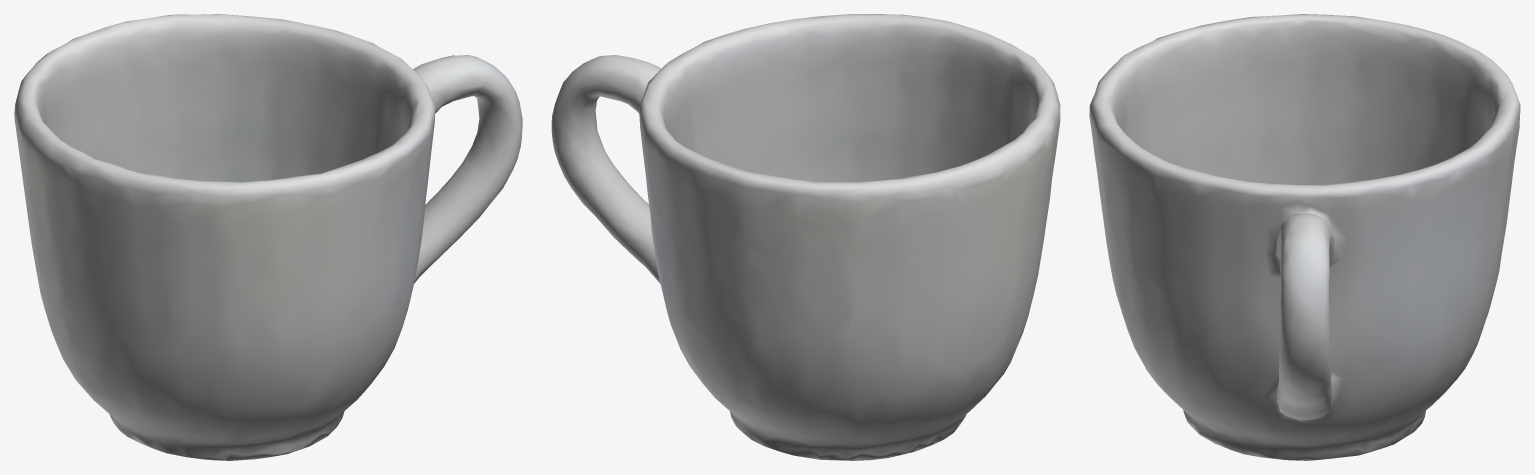
Rendered from teakitchen_TeaCup.glb.
3 views of the same model, side by side, from view 1: azimuth 30°, elevation 25°; view 2: azimuth 150°, elevation 25°; view 3: azimuth 270°, elevation 25° (orthographic).
Visible parts, largest first — view 1: world; view 2: world; view 3: world.
Boxes of the visible parts, box(x1,y1,x2,y2) form: world: box(14, 14, 522, 460); world: box(551, 14, 1060, 460); world: box(1089, 14, 1520, 460).
Size of the model in its own units: 0.9995 by 0.6286 by 0.7842.
Materials: 1 (1 with a texture image).
